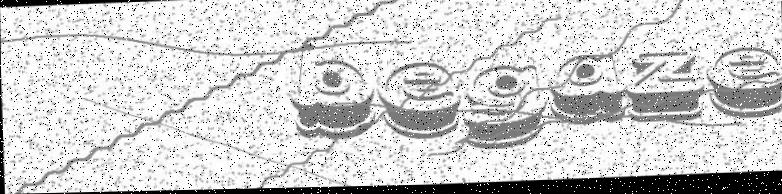a: (543, 51, 626, 129)
b: (288, 38, 379, 140)
e: (375, 57, 462, 137), (705, 45, 782, 127)
g: (460, 62, 545, 152)
z: (626, 50, 705, 128)
